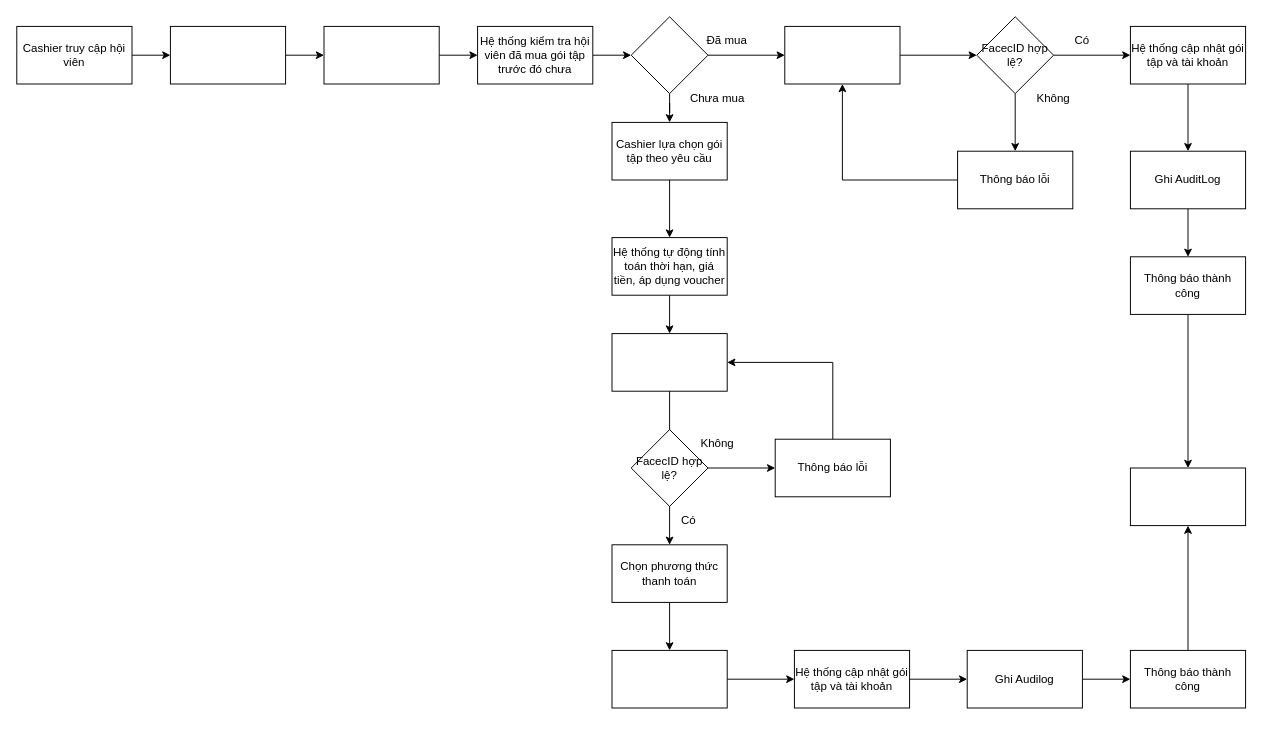
Image size: 1262x732. Some labels were removed from this diagram. The shapes that lost their labels are listed below. From the top down, each one's centre as x and y in pixels, then its label:
At point 227,54: "Kích hoạt hội viên".
At point 381,54: "Chọn hội viên cần kích hoạt".
At point 669,55: "Đã mua?".
At point 842,54: "Đăng ký FaceId (chụp hoặc Upload )".
At point 669,362: "Đăng ký FaceId ( chụp hoặc Upload)".
At point 1187,496: "Kết thúc".
At point 669,678: "Xác nhận thanh toán".
